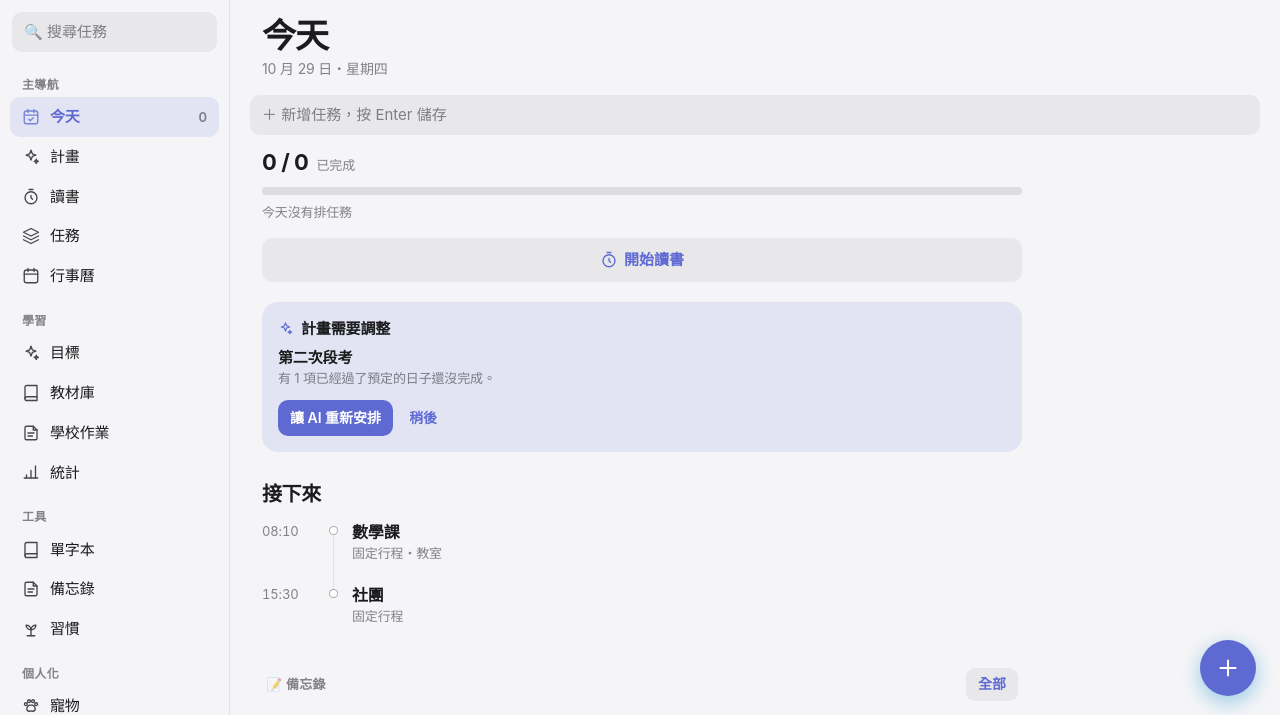
Scenario: 重排範圍與寫入時機 › 15. 產生預覽階段完全不寫入
Expected: the heading "今天" is shown, left=262, top=15, right=328, bottom=56
Click the button "讓 AI 重新安排" at x=336, y=418, box left=278, top=400, right=393, bottom=436
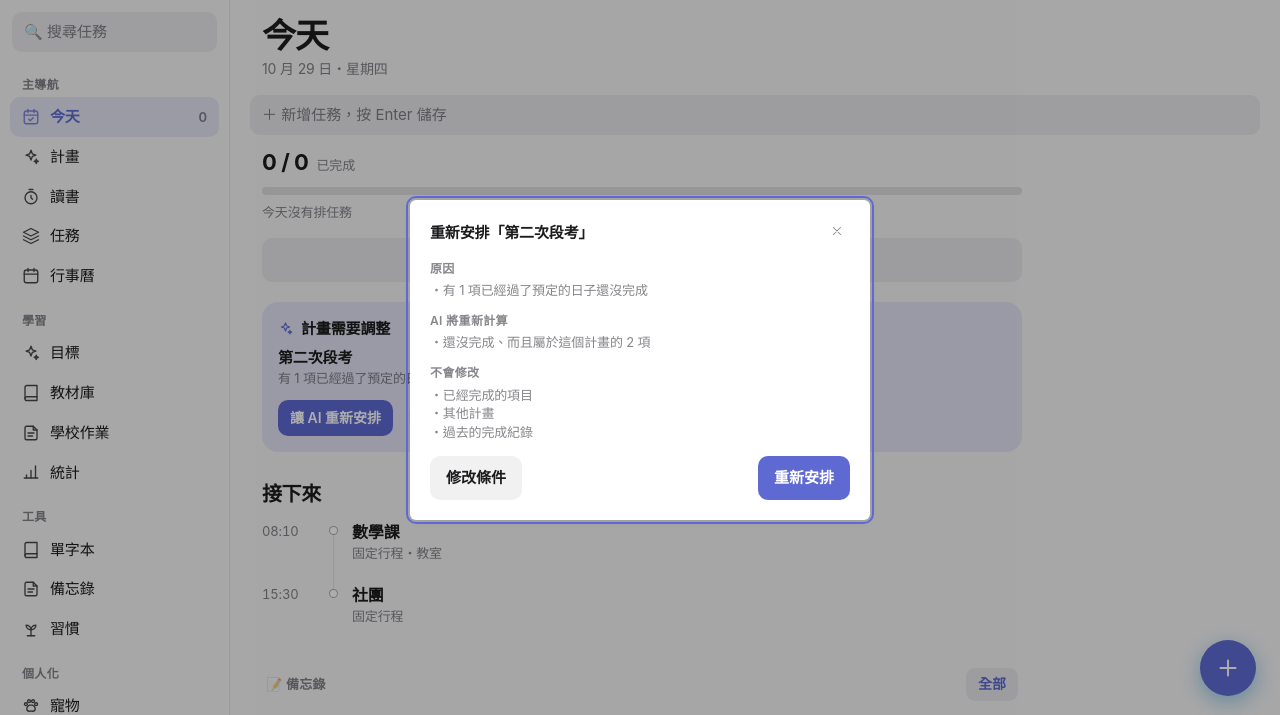
Click the button "重新安排" at x=804, y=478, box left=758, top=456, right=850, bottom=500
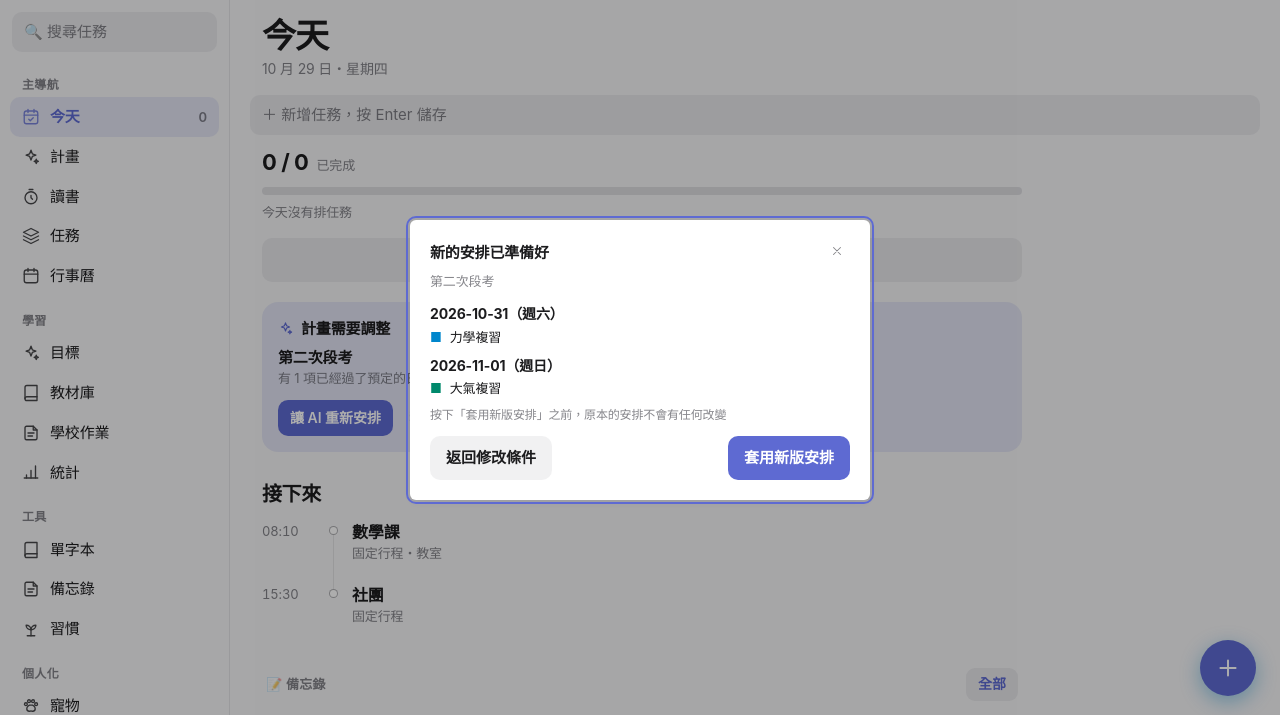
Expected: the text "新的安排已準備好" is shown, left=430, top=242, right=549, bottom=264
